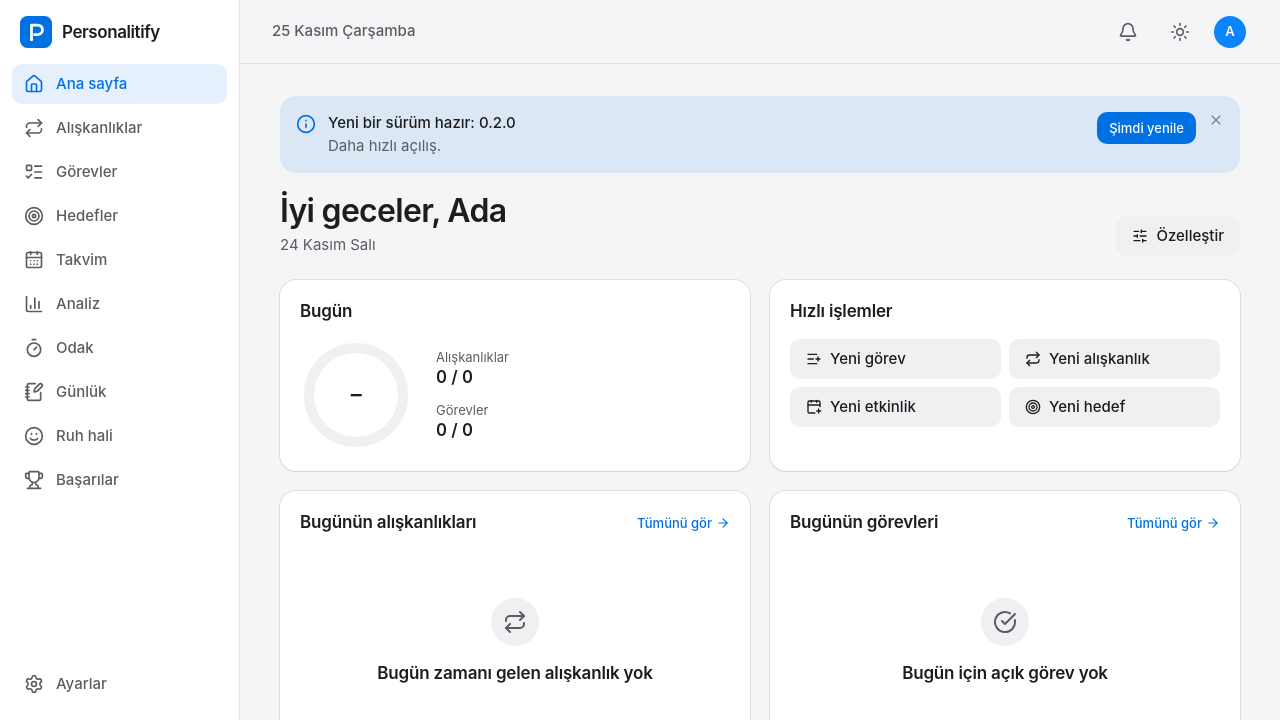
Scenario: updates › offers a newer version and reloads on request
Expected: the text "Daha hızlı açılış." is shown, [328,136,441,154]
Expected: the heading "İyi geceler, Ada" is shown, [280,193,506,230]
What coordinates should you click on to do the following:
click the button "Şimdi yenile"
I would click on:
 (1147, 128)
Its box is [1097,112,1196,144].
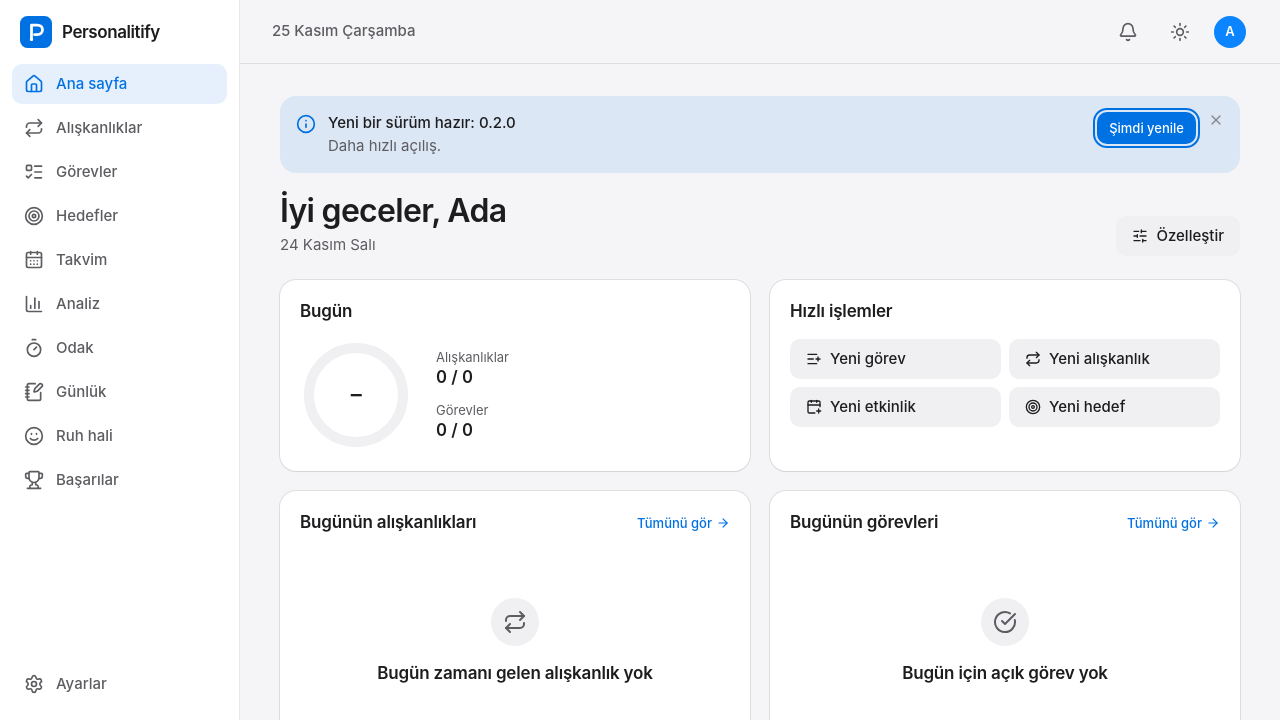
What coordinates should you click on to do the following:
click the button named "Kapat"
I would click on:
 (1216, 120)
Its box is [1204,108,1228,132].
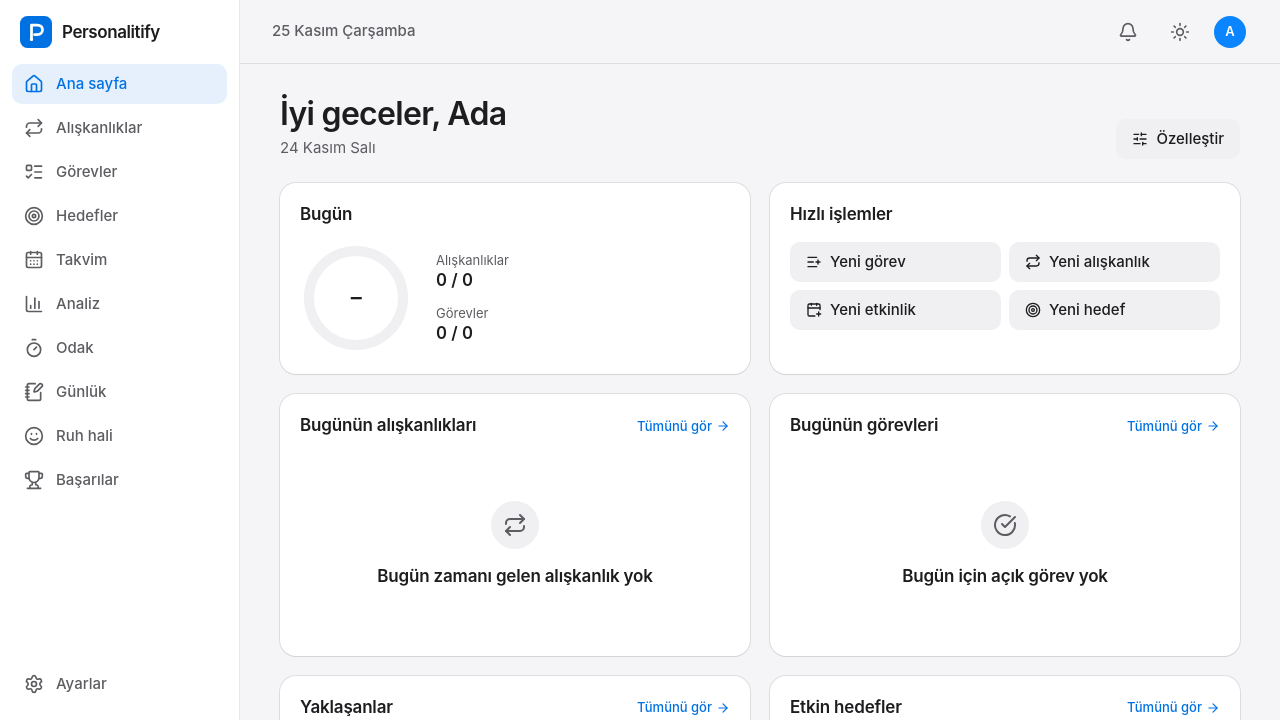
Expected: the text "Yeni bir sürüm hazır: 0.2.0" is gone
